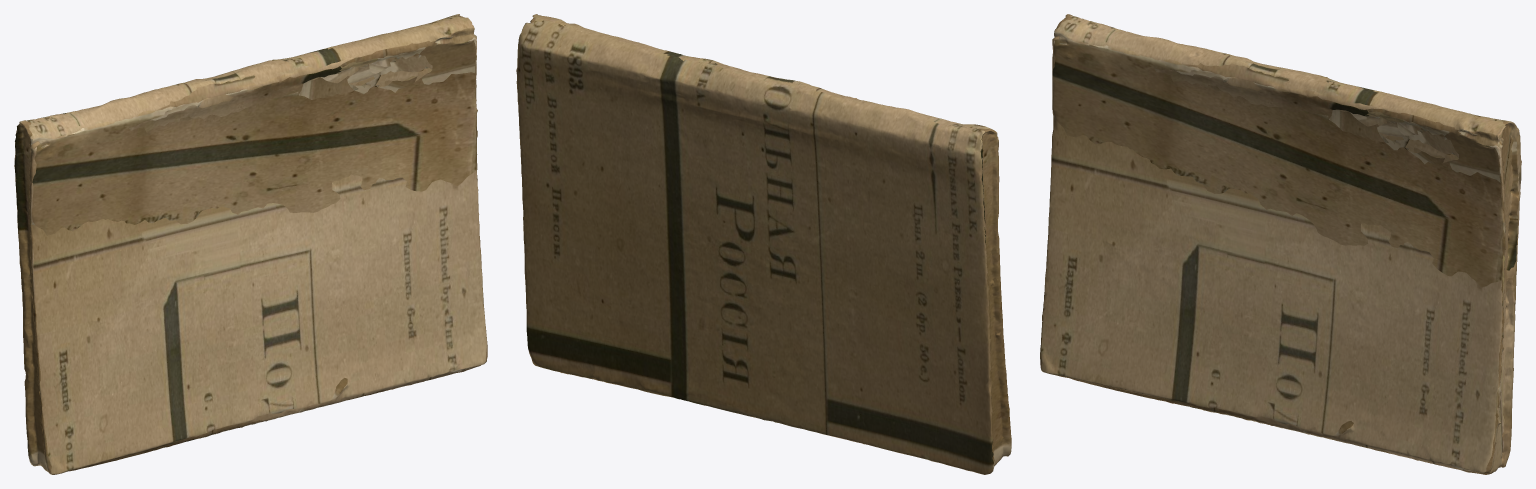
The model's file is PamphletBook.obj.
3 renders of one model, left to right at view 1: azimuth 30°, elevation 25°; view 2: azimuth 150°, elevation 25°; view 3: azimuth 330°, elevation 25°, orthographic. The views are drawn at different scales.
Size of the model in its own units: 3.6 by 2.61 by 0.5428.
1 material, 1 textured.
